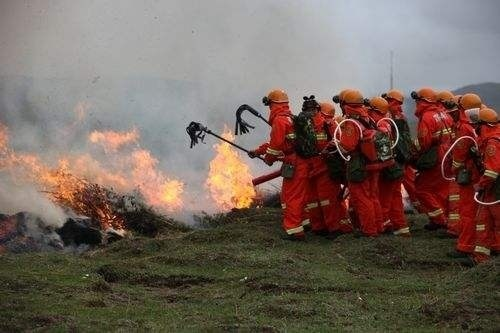fire: (2, 113, 185, 235), (205, 124, 258, 210)
